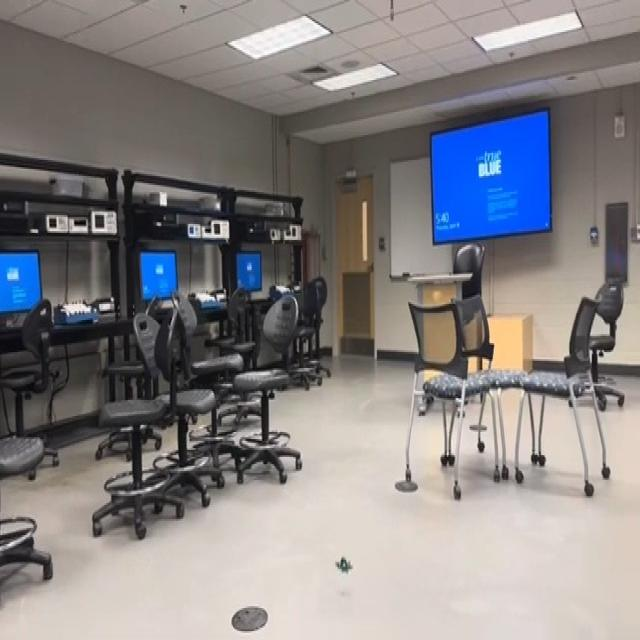drone: (324, 539, 362, 586)
